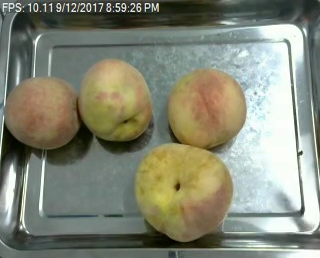Peach: (135, 143, 232, 243), (167, 68, 248, 148), (79, 57, 151, 142), (3, 76, 81, 150)
